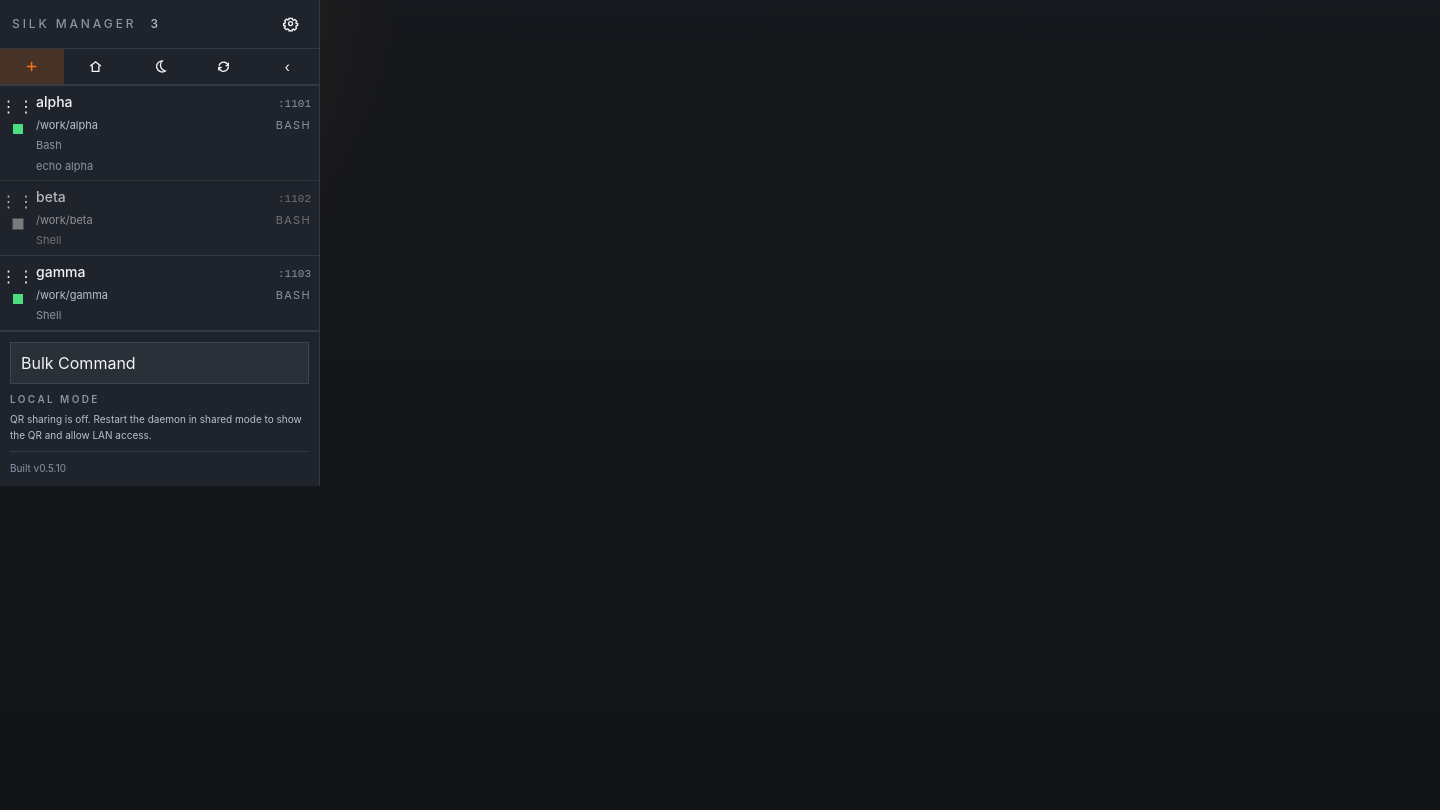
Sidebar › opens the bulk command modal and runs the selected helper
Click the button "Bulk Command". click: (78, 363)
box: top-left (10, 342), bottom-right (309, 384)
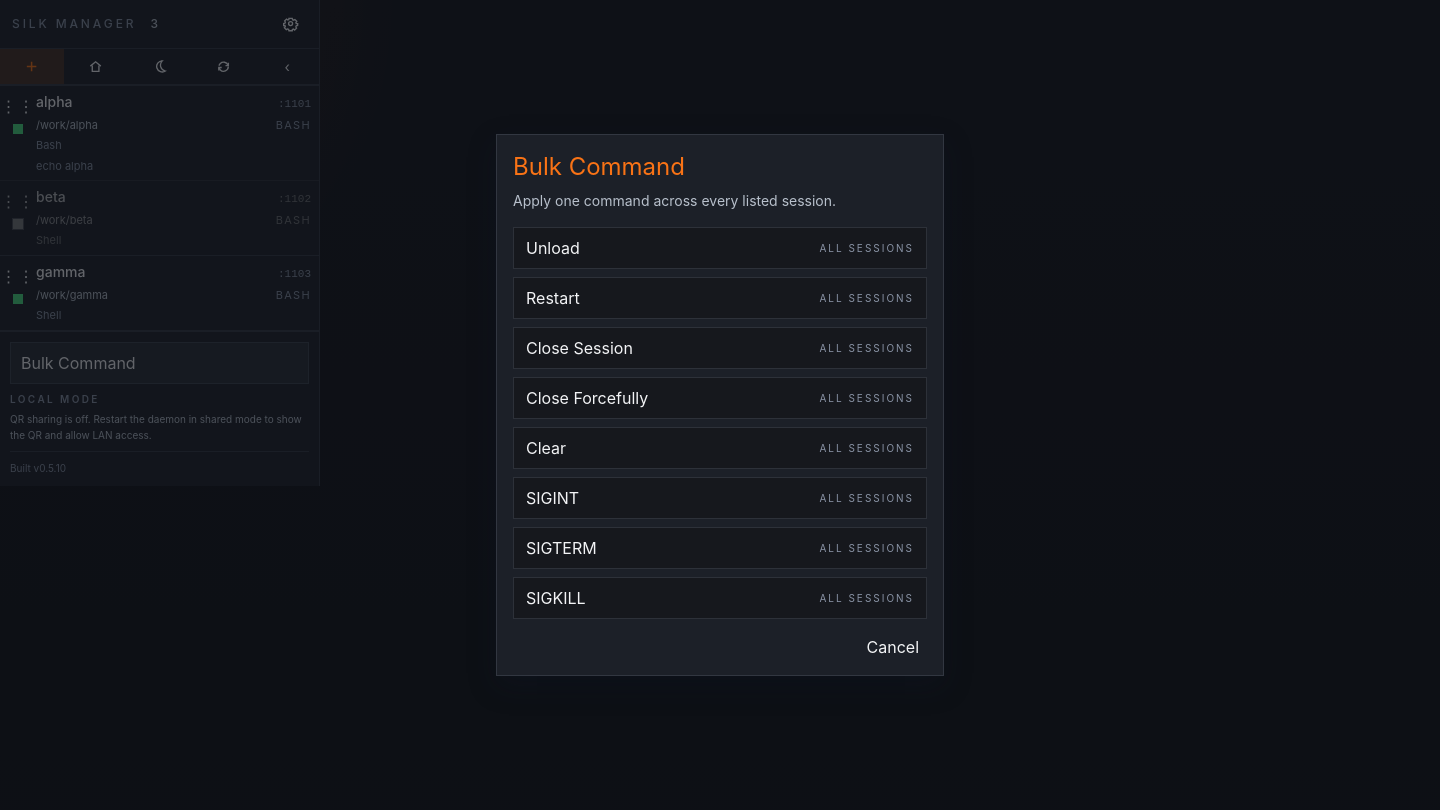
Check: the text "Close Forcefully" is shown, box top-left (526, 386), bottom-right (648, 410)
Click the button "Close Forcefully All Sessions". click: (587, 398)
box: top-left (513, 377), bottom-right (927, 419)
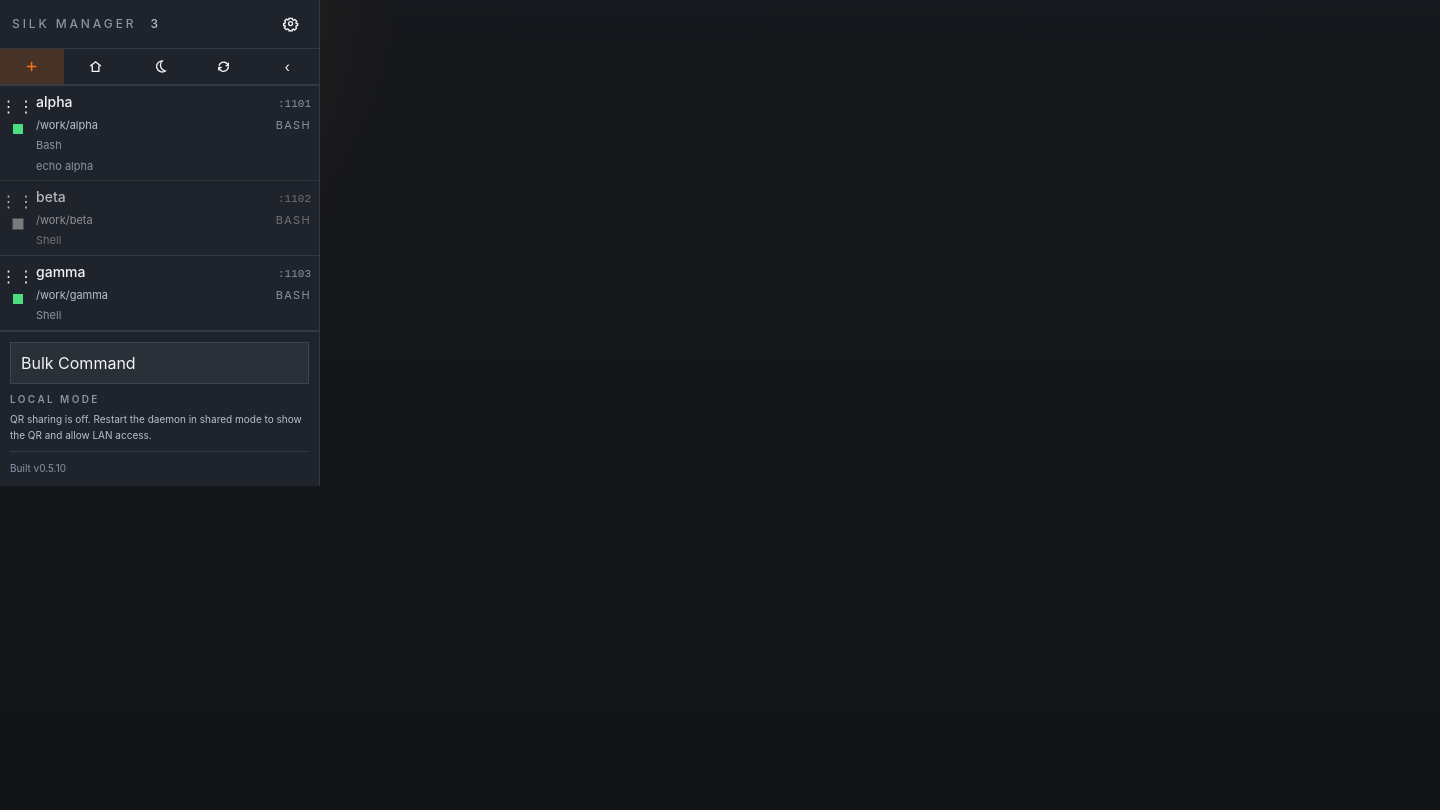
Check: the text "Apply one command across every listed session." is gone
